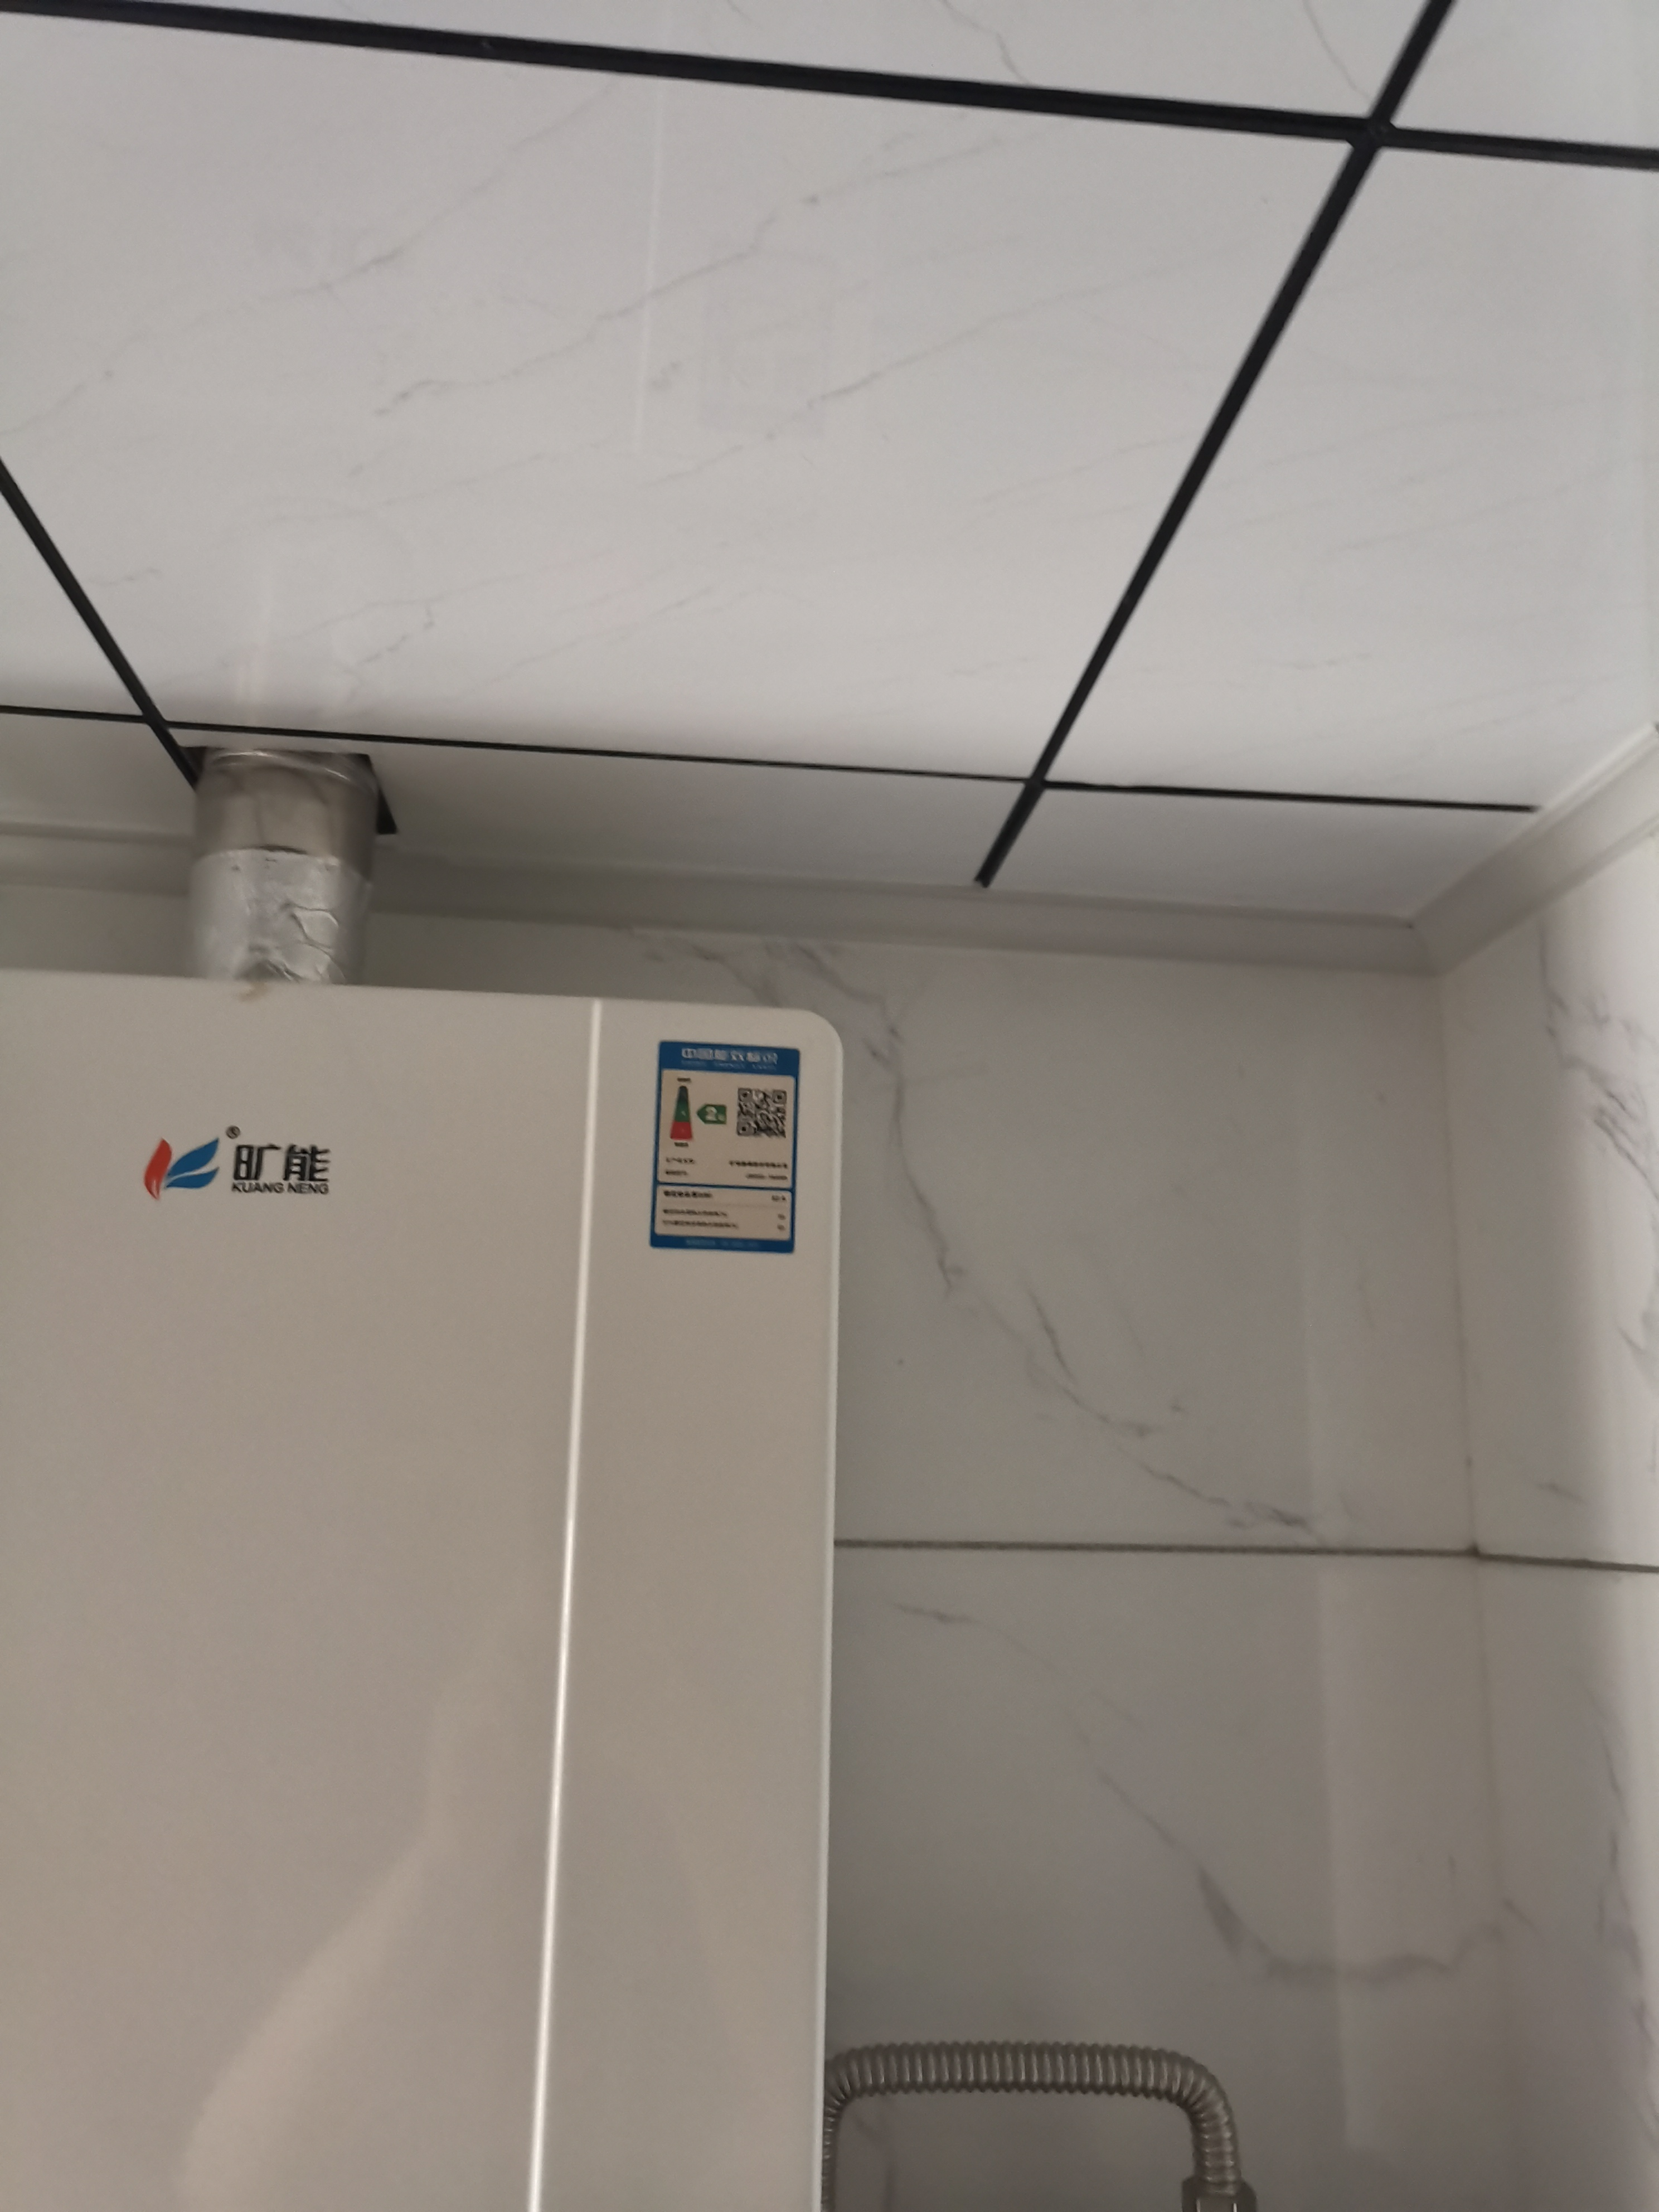loudou: (122, 1094, 368, 1216)
